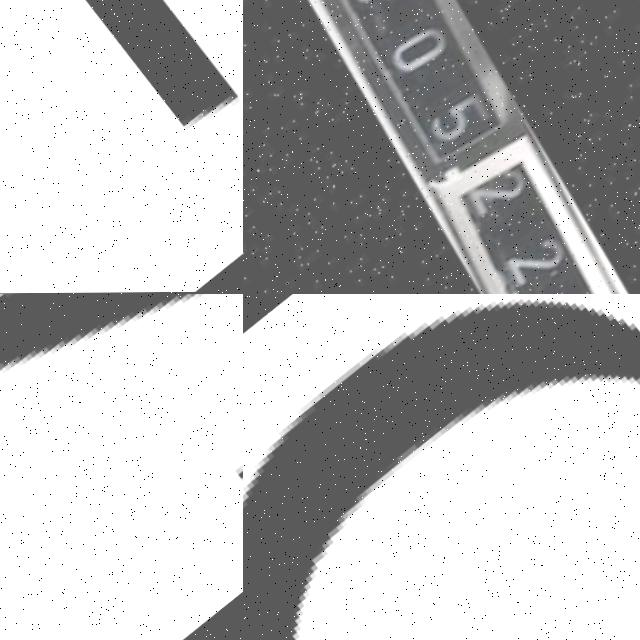0: (384, 11, 461, 83)
2: (504, 222, 584, 294), (465, 153, 544, 225)
5: (421, 80, 504, 156)
C: (243, 301, 640, 640)
F: (0, 0, 243, 294)
T: (0, 294, 243, 640)
